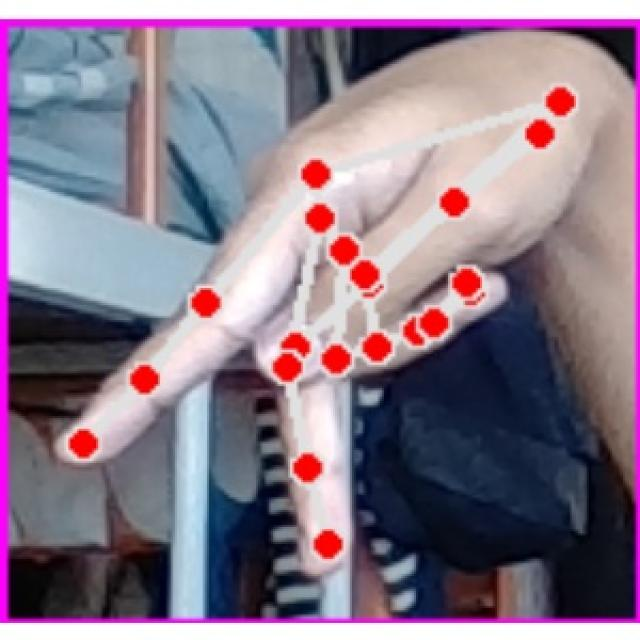P: (61, 35, 607, 594)
